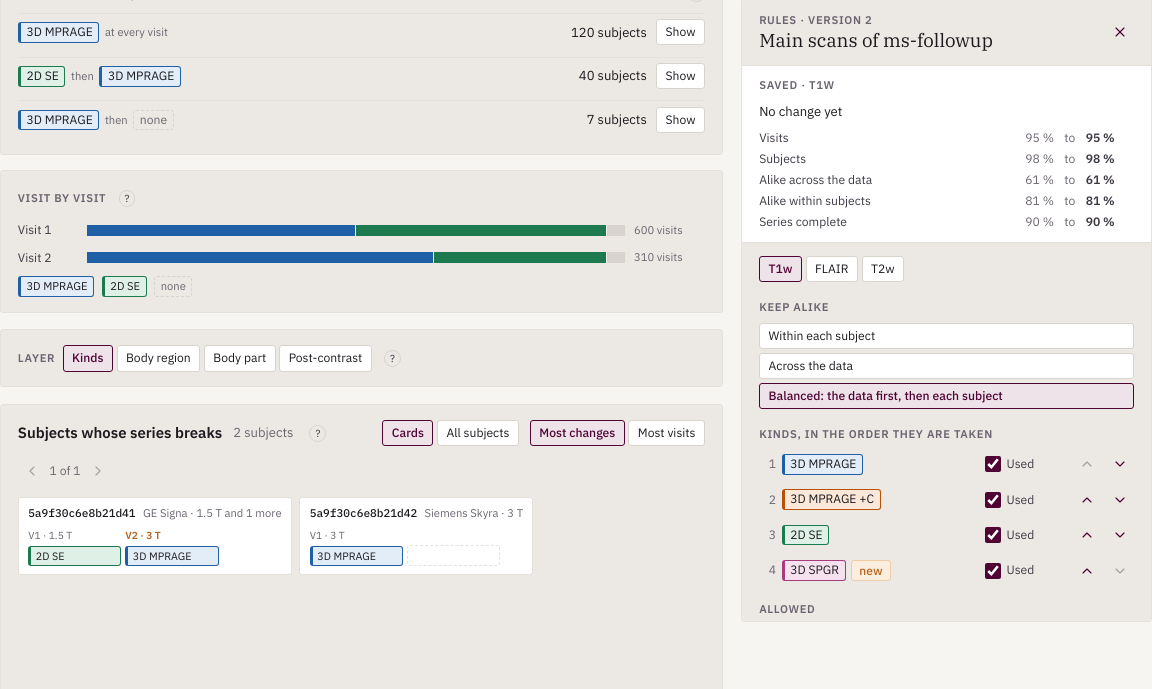
Test: Main scans' layers › offers no Run once the step has run, and says how much it answered
This screenshot has width=1152, height=689.
(page scrolled)
Click the button "Post-contrast".
click(326, 358)  # box [279,345,372,372]
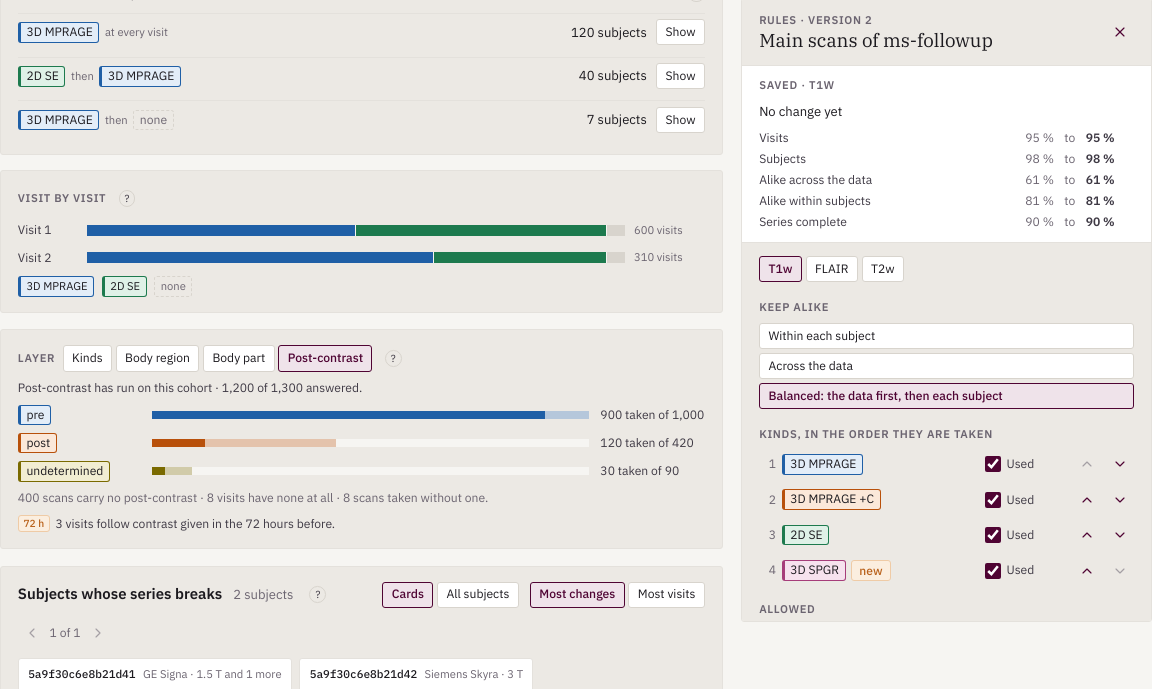
Expected: the text with class "ms-layer-said" reads "Post-contrast has run on this cohort · 1,200 of 1,300 answered.", [18,380,362,395]
Expected: the element with class "ms-layer-flag" reads "72 h 3 visits follow contrast given in the 72 hours before.", [18,515,335,532]
Expected: the text "72 h" is shown, [18,515,50,532]
